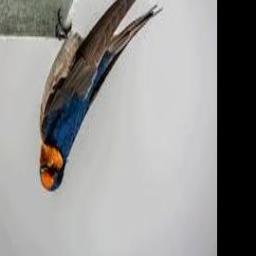Swallow: (40, 0, 163, 192)
